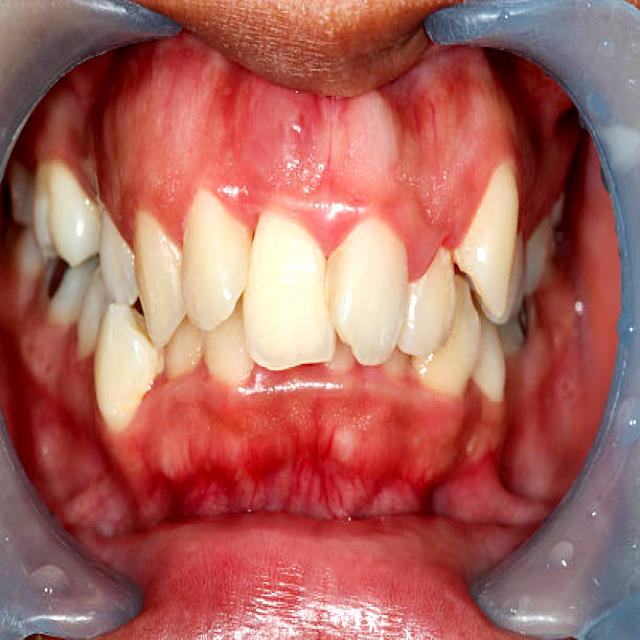gingivitis: (85, 83, 559, 267), (93, 372, 521, 518)
